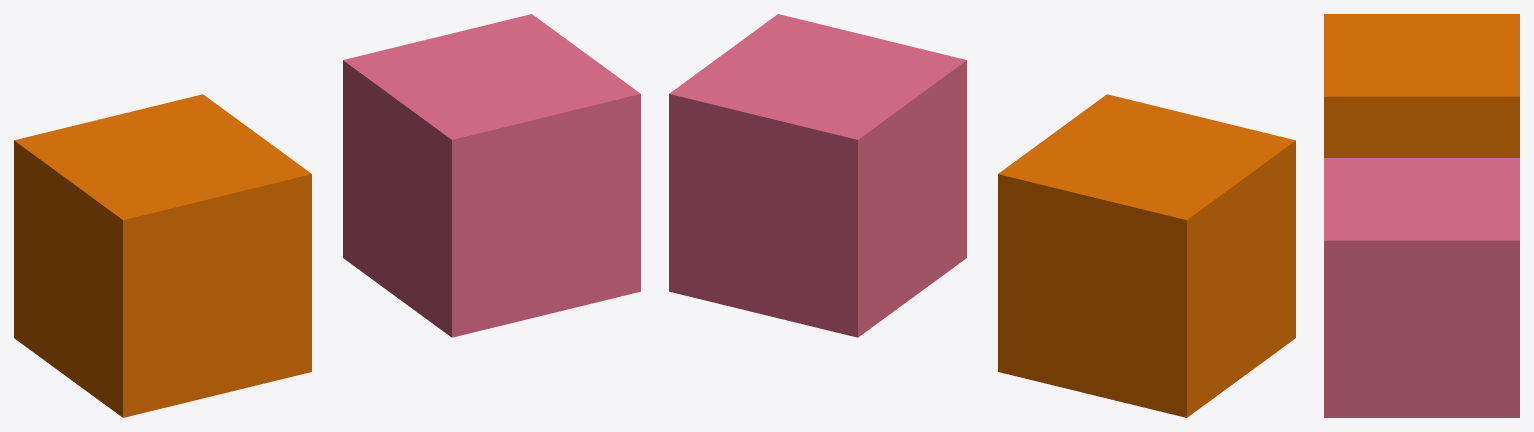
3 renders of one model, left to right at view 1: azimuth 30°, elevation 25°; view 2: azimuth 150°, elevation 25°; view 3: azimuth 270°, elevation 25°, orthographic. The views are drawn at different scales.
Visible parts, largest first — view 1: pCube2, pCube3; view 2: pCube2, pCube3; view 3: pCube3, pCube2.
Part boxes in pixels (<box>): pCube2: <box>14,94,311,417</box>; pCube3: <box>343,14,640,337</box>; pCube2: <box>998,94,1295,417</box>; pCube3: <box>669,14,966,337</box>; pCube3: <box>1324,158,1519,417</box>; pCube2: <box>1324,14,1519,157</box>.
Bounding box in the file's own units: 2.74 × 1 × 1.
